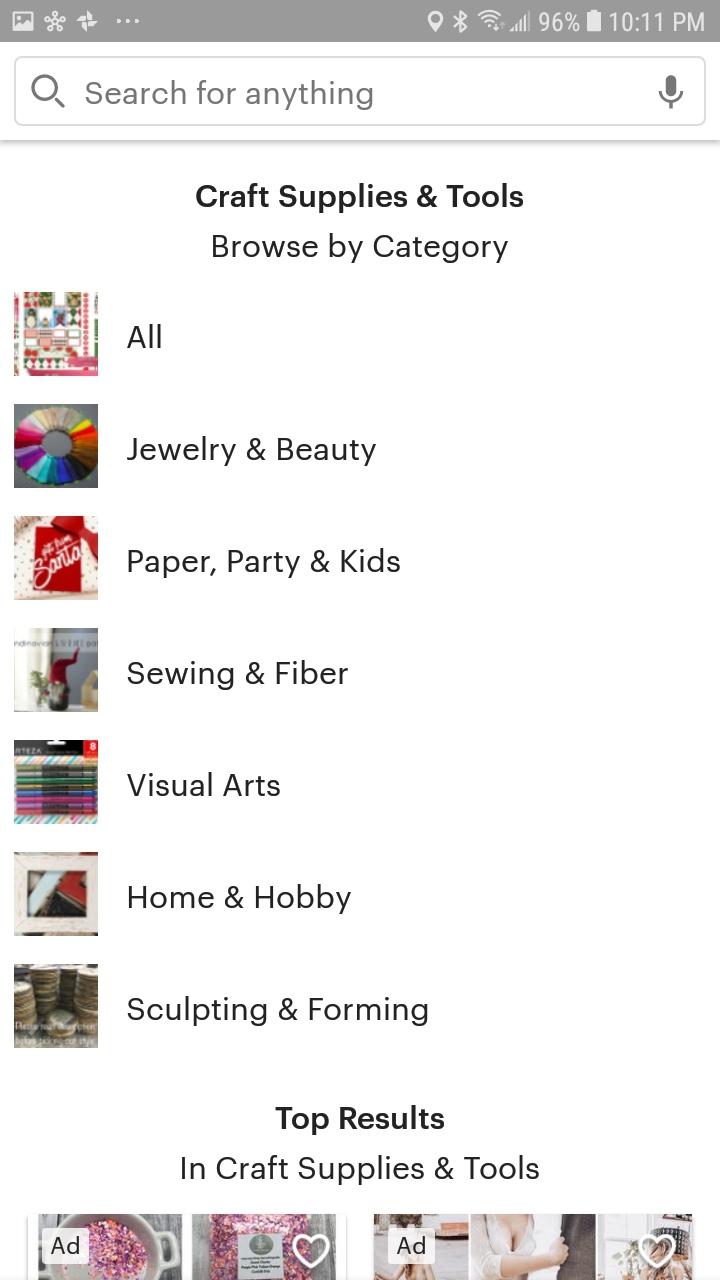EditText: (15, 57, 706, 127)
Icon: (292, 1233, 331, 1269), (638, 1234, 676, 1269), (31, 75, 66, 110), (658, 75, 684, 110)
Image: (28, 1213, 347, 1280), (374, 1214, 693, 1280), (14, 516, 99, 601), (14, 740, 99, 825), (14, 964, 99, 1049), (14, 404, 99, 489), (14, 292, 99, 377), (15, 628, 99, 713), (15, 852, 99, 937)
Text: (182, 1155, 540, 1186), (196, 183, 524, 214), (128, 995, 429, 1027), (85, 80, 373, 112), (213, 234, 509, 265), (128, 548, 401, 579), (127, 436, 377, 467), (129, 883, 352, 915), (127, 659, 349, 691), (275, 1105, 445, 1136), (127, 771, 281, 797), (127, 324, 162, 349)
TextButton: (42, 1228, 90, 1265), (388, 1228, 435, 1264)
UpperTaskBar: (1, 1, 720, 43)
